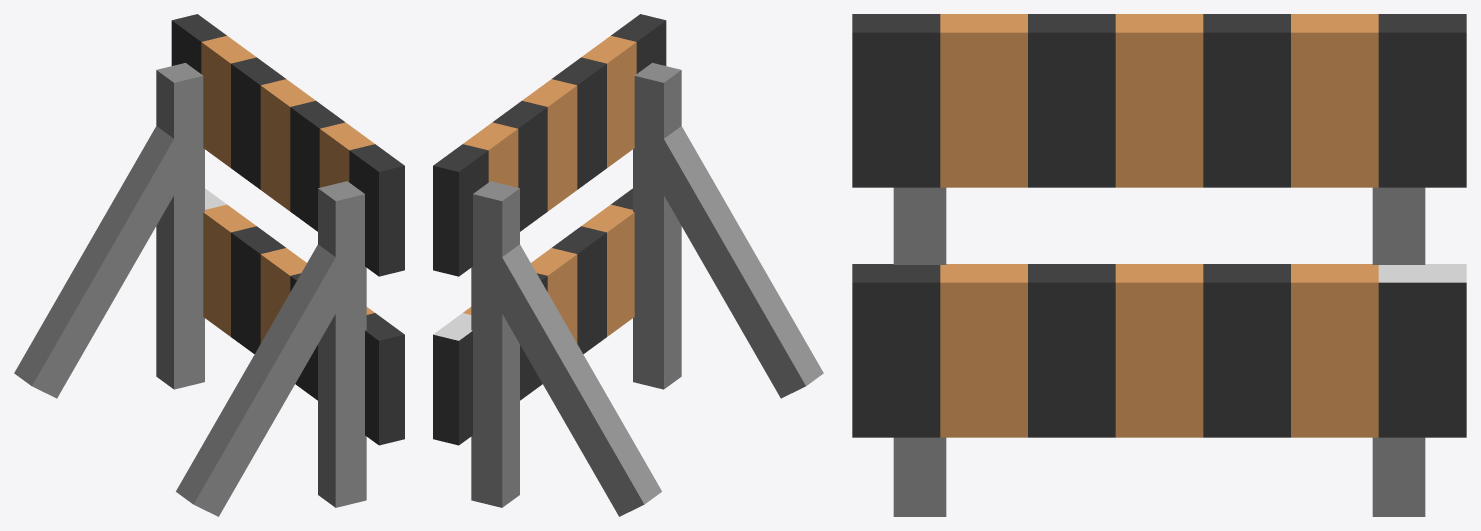
Rendered from obstacle_1.fbx.
The picture shows the model from 3 angles, left to right: view 1: azimuth 30°, elevation 25°; view 2: azimuth 150°, elevation 25°; view 3: azimuth 270°, elevation 25°; orthographic projection. The views are drawn at different scales.
Visible parts, largest first — view 1: Cube, Cube.001, Cube.004, Cube.010, Cube.007, Cube.008, Cube.014, Cube.006, Cube.009, Cube.015, Cube.013, Cube.005 (+2 smaller); view 2: Cube, Cube.001, Cube.002, Cube.016, Cube.007, Cube.006, Cube.012, Cube.008, Cube.005, Cube.011, Cube.013, Cube.009 (+3 smaller); view 3: Cube.001, Cube.002, Cube.004, Cube.007, Cube.013, Cube.010, Cube.005, Cube.006, Cube.008, Cube.009, Cube.012, Cube.014 (+4 smaller).
Part boxes in pixels (left/top/right/bottom): Cube: left=14, top=126, right=362, bottom=516; Cube.001: left=156, top=63, right=366, bottom=507; Cube.004: left=349, top=144, right=404, bottom=276; Cube.010: left=365, top=313, right=404, bottom=445; Cube.007: left=260, top=79, right=315, bottom=211; Cube.008: left=231, top=57, right=285, bottom=189; Cube.014: left=231, top=226, right=285, bottom=353; Cube.006: left=290, top=101, right=345, bottom=231; Cube.009: left=201, top=36, right=256, bottom=167; Cube.015: left=203, top=204, right=256, bottom=336; Cube.013: left=260, top=248, right=306, bottom=343; Cube.005: left=319, top=122, right=374, bottom=187; Cube: left=502, top=126, right=823, bottom=516; Cube.001: left=471, top=63, right=681, bottom=507; Cube.002: left=433, top=144, right=488, bottom=276; Cube.016: left=433, top=331, right=472, bottom=445; Cube.007: left=522, top=79, right=577, bottom=211; Cube.006: left=552, top=57, right=606, bottom=189; Cube.012: left=552, top=226, right=606, bottom=353; Cube.008: left=492, top=101, right=547, bottom=231; Cube.005: left=581, top=36, right=636, bottom=167; Cube.011: left=581, top=204, right=634, bottom=336; Cube.013: left=531, top=248, right=577, bottom=343; Cube.009: left=463, top=122, right=518, bottom=187; Cube.001: left=893, top=187, right=1425, bottom=516; Cube.002: left=1378, top=14, right=1466, bottom=187; Cube.004: left=852, top=14, right=940, bottom=187; Cube.007: left=1115, top=14, right=1203, bottom=187; Cube.013: left=1115, top=264, right=1203, bottom=437; Cube.010: left=852, top=264, right=940, bottom=437; Cube.005: left=940, top=14, right=1027, bottom=187; Cube.006: left=1028, top=14, right=1115, bottom=187; Cube.008: left=1203, top=14, right=1290, bottom=187; Cube.009: left=1291, top=14, right=1378, bottom=187; Cube.012: left=1028, top=264, right=1115, bottom=437; Cube.014: left=1203, top=264, right=1290, bottom=437.
Size of the model in its own units: 395 by 648 by 718.
